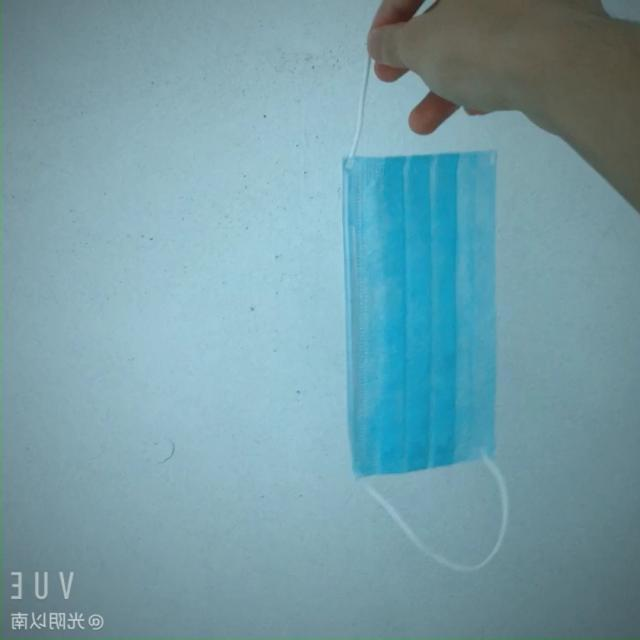face mask: (322, 150, 509, 481)
